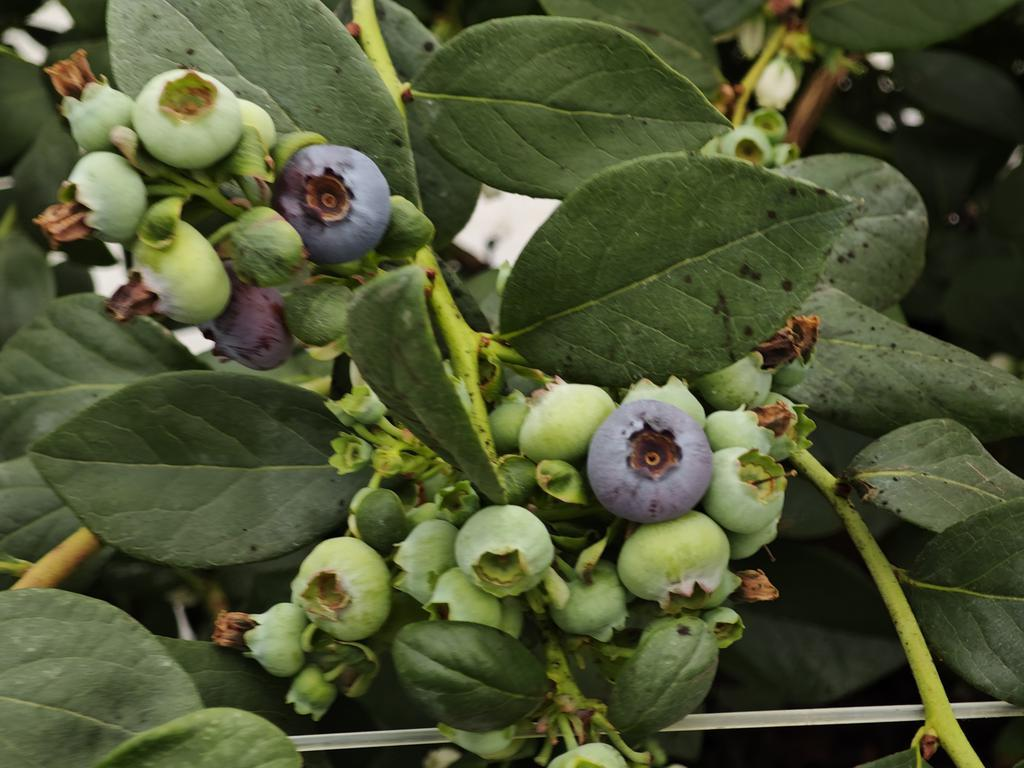RipeBlueBerry: (588, 396, 715, 521), (282, 141, 394, 261)
Semi-RipeBlueBerry: (205, 283, 298, 372)
UnripeBlueBerry: (130, 65, 245, 175), (126, 219, 237, 329), (289, 534, 396, 643), (614, 510, 734, 607)
